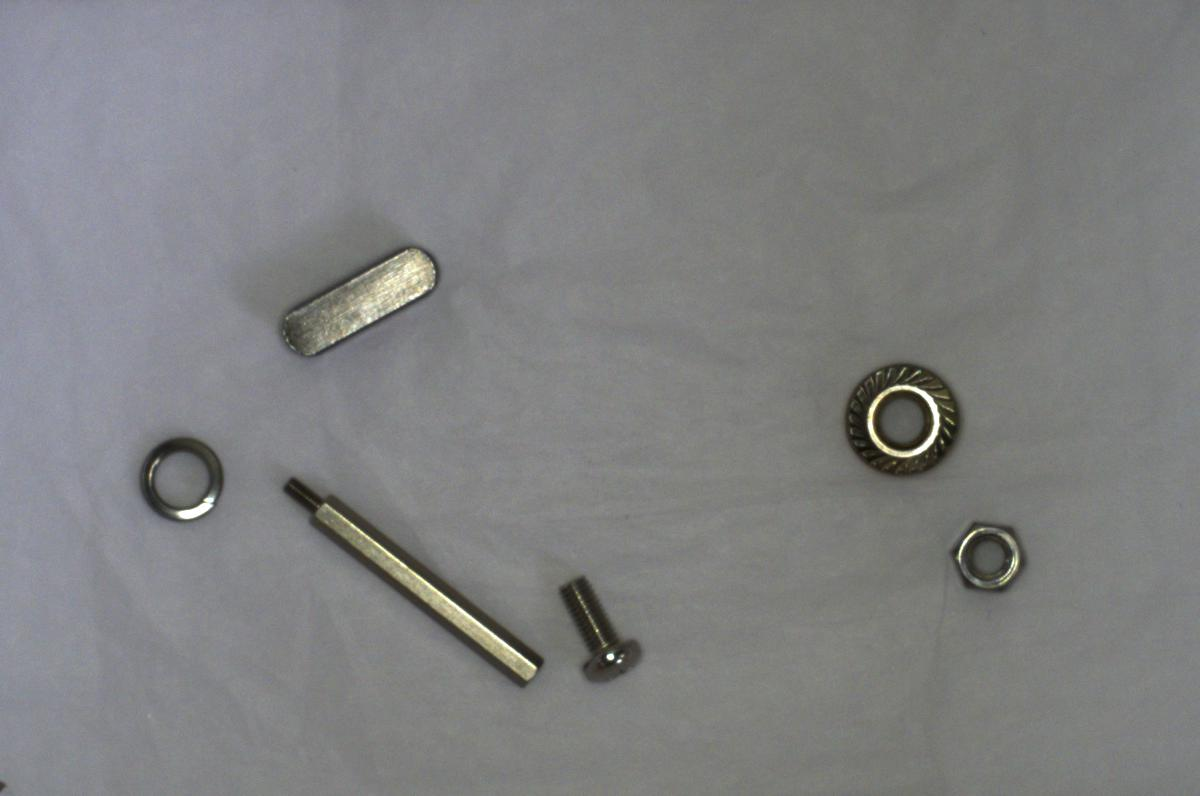Flange nut: (827, 347, 965, 478)
Hexagon nut: (937, 510, 1031, 600)
Hexagonal steel column: (268, 473, 542, 687)
Keybar: (272, 232, 441, 358)
Round head screw: (545, 568, 652, 690)
Spring washer: (127, 429, 241, 530)
